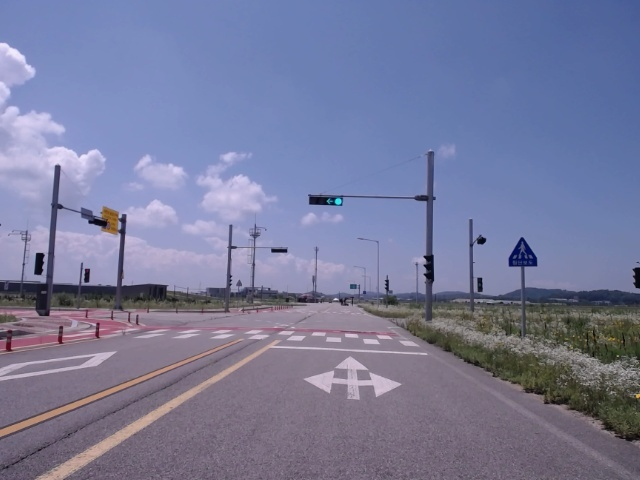all_green_4: (309, 195, 343, 206)
